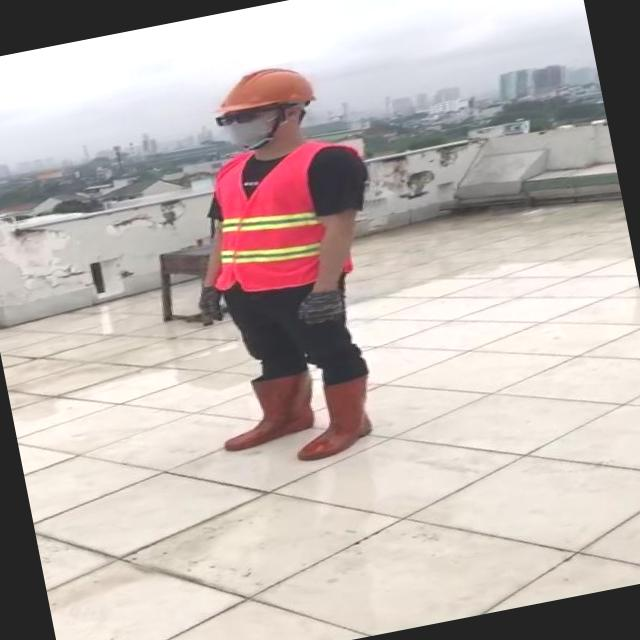boots: (280, 367, 398, 466), (209, 366, 319, 453)
gloves: (294, 284, 346, 328), (194, 286, 229, 332)
helmet: (204, 56, 322, 118)
vest: (195, 140, 376, 302)
